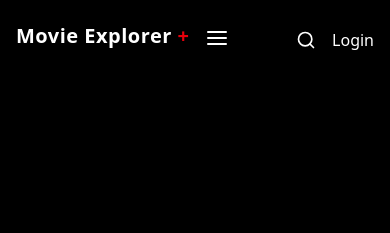
Test: Header Component › toggles mobile menu
Click the button named "menu". click: click(218, 34)
box: [206, 18, 230, 50]
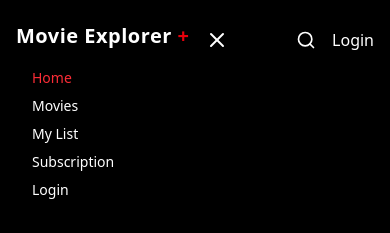
Expected: the navigation bar with test id "mobile-nav" is shown, [16, 68, 374, 216]
Click the button named "menu". click: click(218, 34)
box: [206, 16, 230, 52]
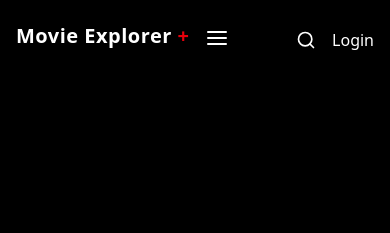
Expected: the navigation bar with test id "mobile-nav" is gone
